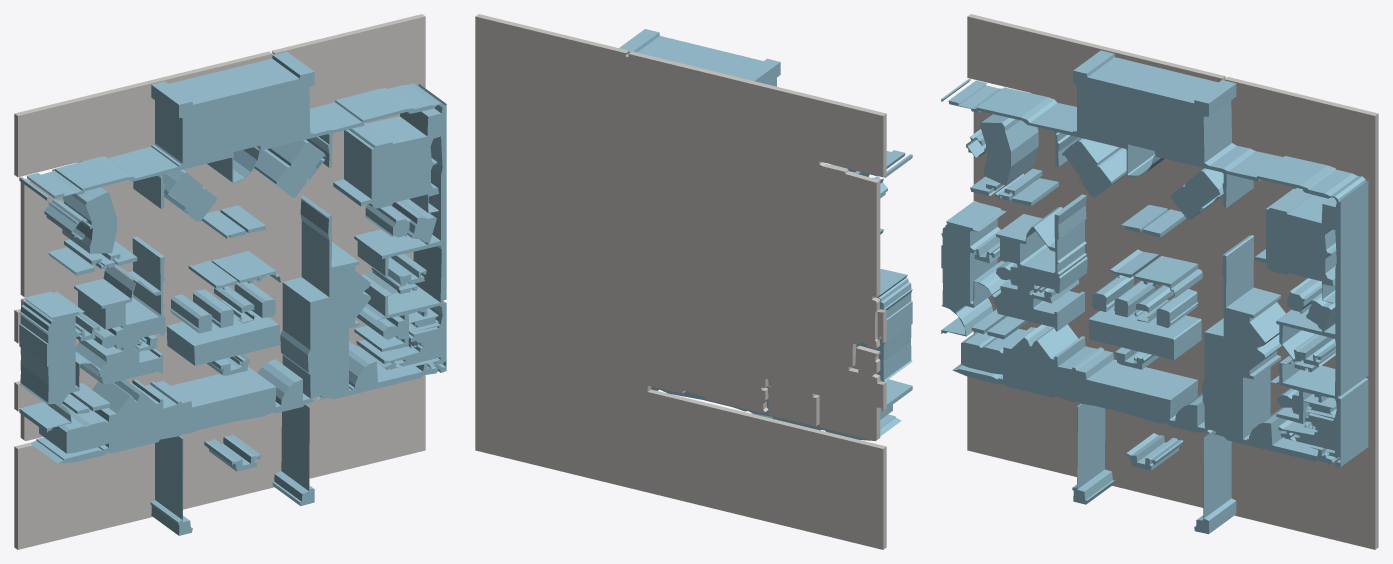
3 views of the same model, side by side, from view 1: azimuth 30°, elevation 25°; view 2: azimuth 150°, elevation 25°; view 3: azimuth 330°, elevation 25° (orthographic).
Visible parts, largest first — view 1: world; view 2: world; view 3: world.
Part boxes in pixels (bbox=[...]): world: bbox=[14, 14, 446, 549]; world: bbox=[475, 14, 912, 549]; world: bbox=[941, 14, 1378, 549].
Size of the model in its own units: 10.23 by 10.4 by 1.35.
